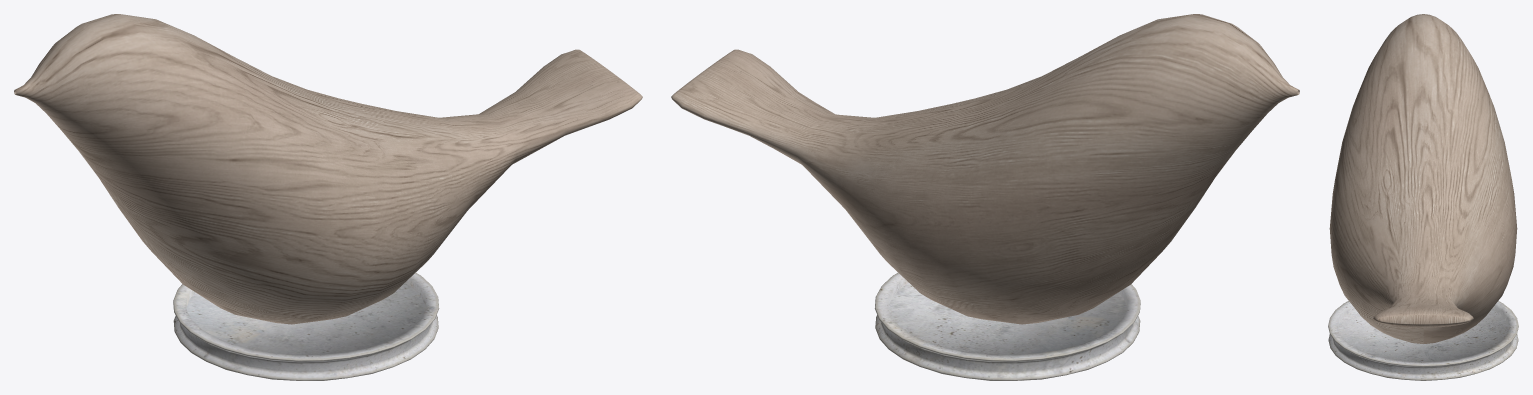
Rendered from model-deco-bird.glb.
3 renders of one model, left to right at view 1: azimuth 30°, elevation 25°; view 2: azimuth 150°, elevation 25°; view 3: azimuth 270°, elevation 25°, orthographic. The views are drawn at different scales.
Visible parts, largest first — view 1: Bird_Decorative; view 2: Bird_Decorative; view 3: Bird_Decorative.
Boxes of the visible parts, x1,y1,x2,y2 form: Bird_Decorative: (14, 14, 642, 380); Bird_Decorative: (671, 14, 1299, 380); Bird_Decorative: (1328, 14, 1518, 380).
Bounding box in the file's own units: 12.65 × 7.1 × 4.88.
1 material, 1 textured.
